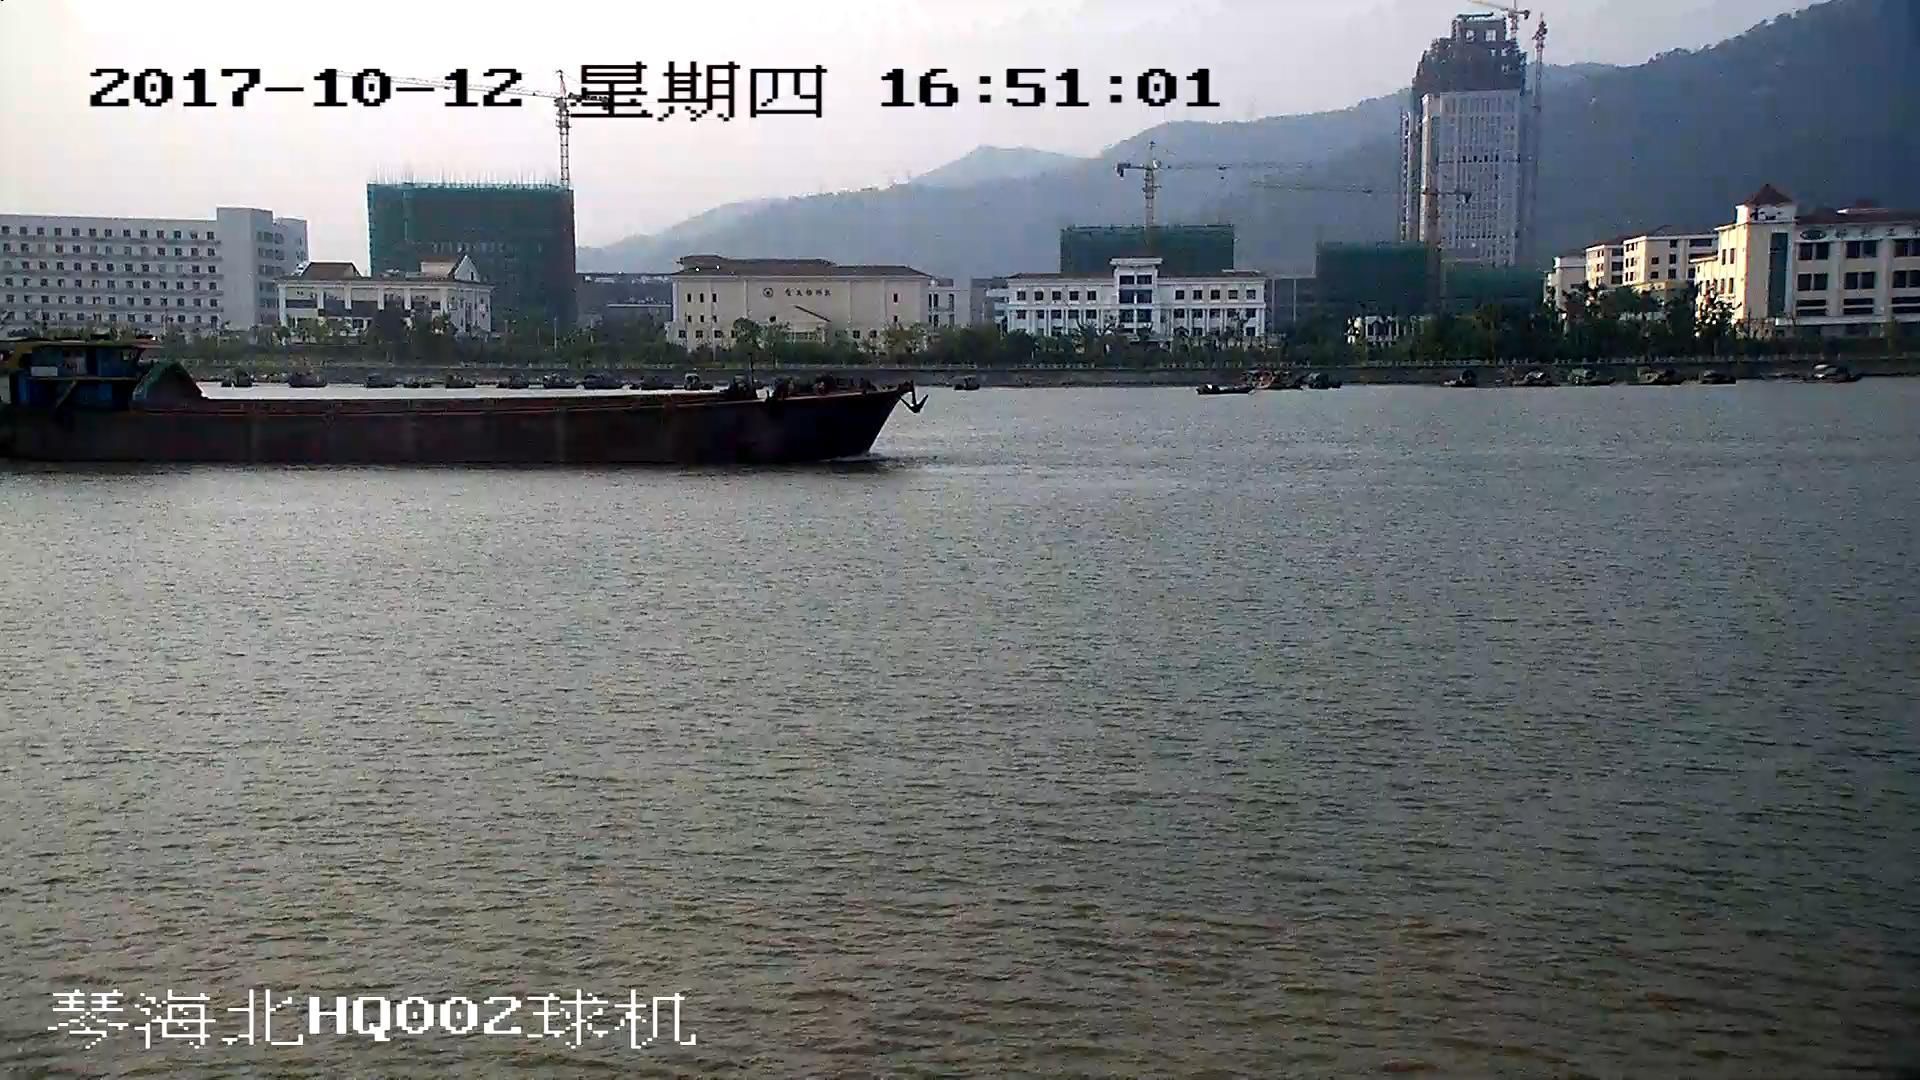bulk cargo carrier: (1, 344, 920, 462)
